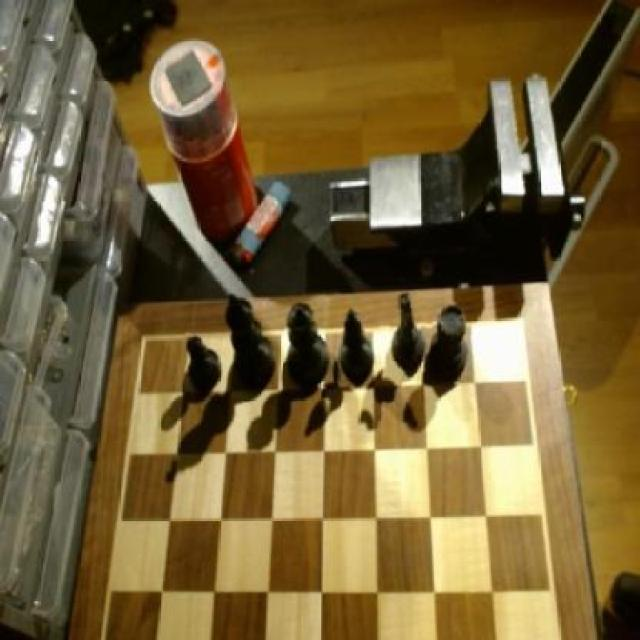bishop: (338, 306, 380, 385)
black-bishop: (223, 287, 280, 388)
black-king: (391, 296, 428, 374)
black-knight: (184, 334, 226, 399)
black-pawn: (284, 301, 334, 387)
black-queen: (431, 303, 473, 387)
